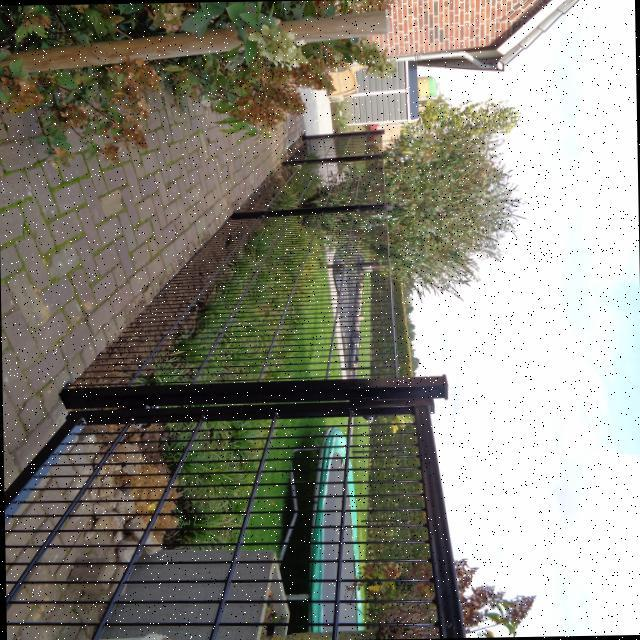fence line: (8, 333, 451, 626), (182, 86, 401, 401)
